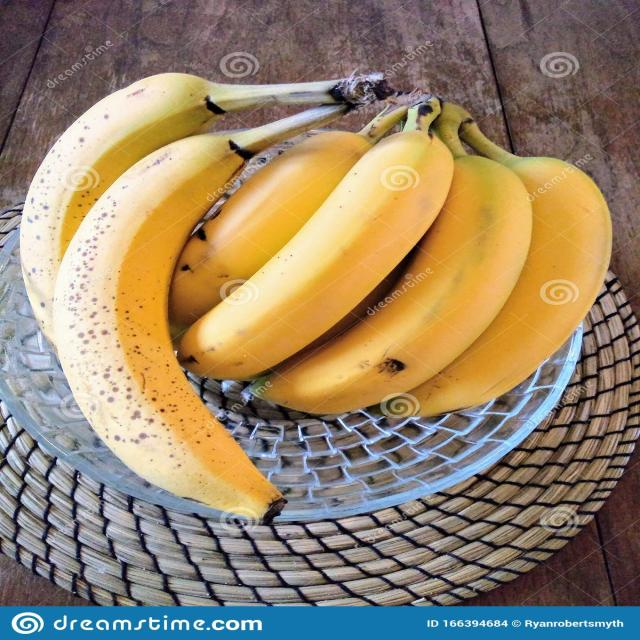banana: (19, 71, 416, 529), (159, 92, 616, 425)
